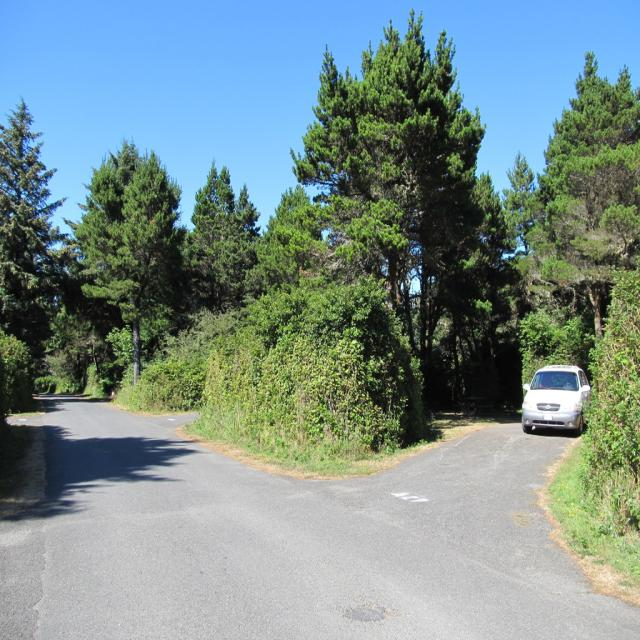car: (524, 362, 592, 439)
